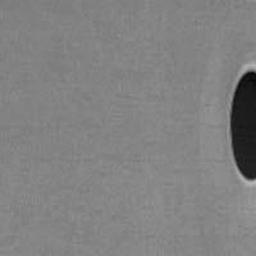Punching: (228, 69, 256, 182)
